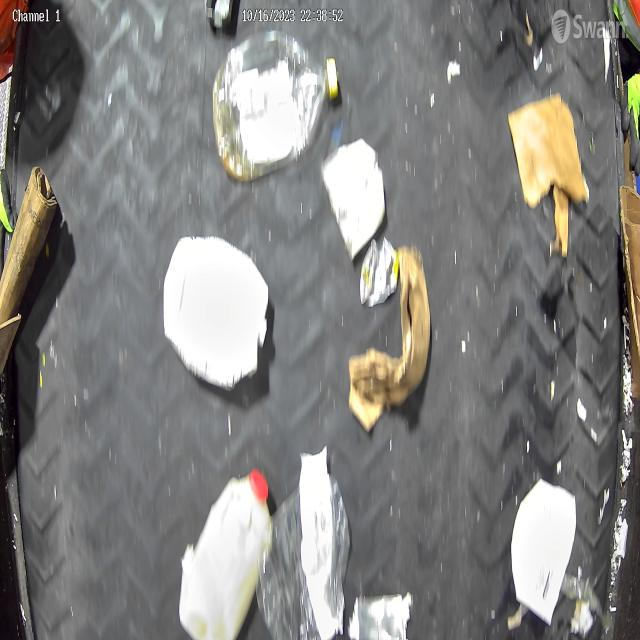can: (358, 236, 399, 308)
milk_jug: (162, 232, 270, 390), (180, 464, 274, 640)
plastic_bottle: (213, 34, 340, 182)
